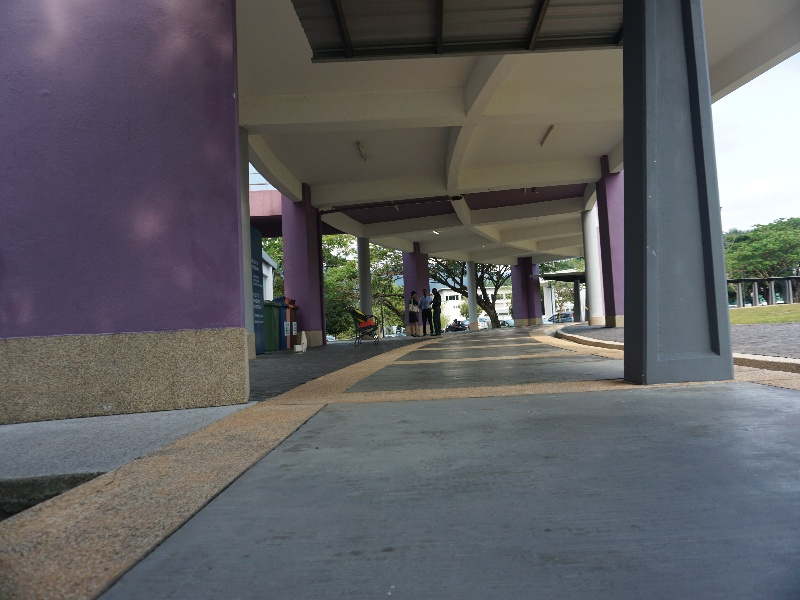Block D Pillar 1: (8, 8, 800, 521)
pillar: (605, 1, 755, 397)
